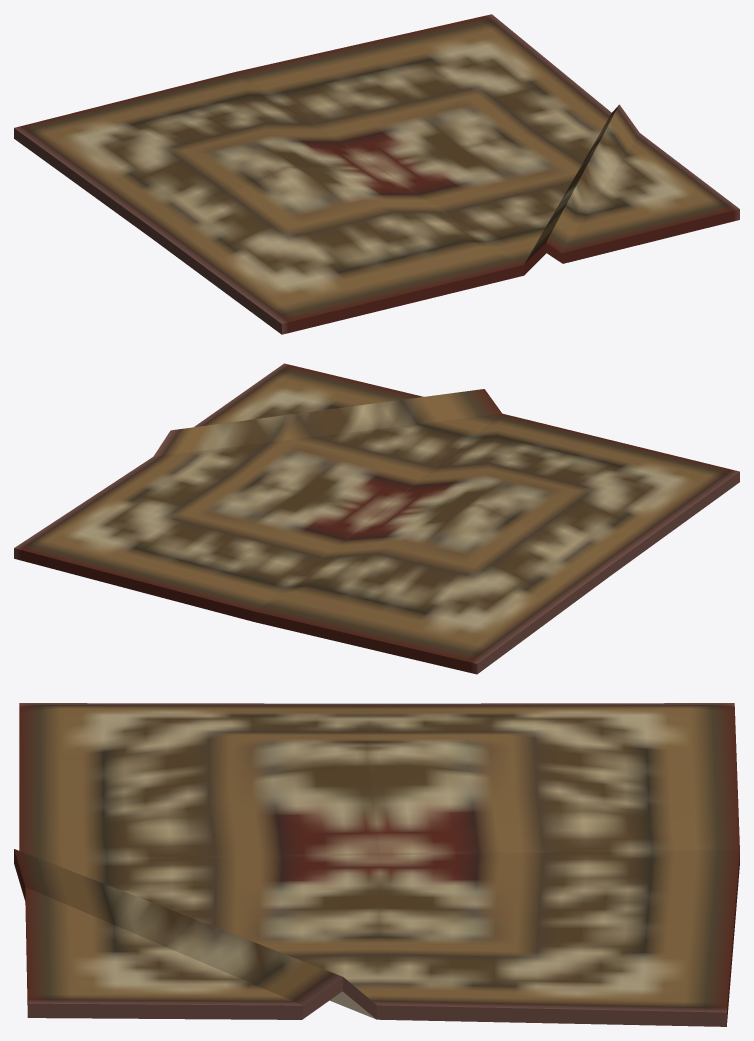
Rendered from SM_Prop_Rug_25.glb.
3 renders of one model, top to bottom at view 1: azimuth 30°, elevation 25°; view 2: azimuth 150°, elevation 25°; view 3: azimuth 270°, elevation 25°, orthographic. The views are drawn at different scales.
Parts seen in each view (by area): view 1: SM_Prop_Rug_25; view 2: SM_Prop_Rug_25; view 3: SM_Prop_Rug_25.
Part boxes in pixels (x1=…): SM_Prop_Rug_25: x1=14, y1=14, x2=739, y2=334; SM_Prop_Rug_25: x1=14, y1=363, x2=739, y2=674; SM_Prop_Rug_25: x1=14, y1=703, x2=739, y2=1026.
Size of the model in its own units: 1.54 by 0.1199 by 1.53.
Materials: 1 (1 with a texture image).
